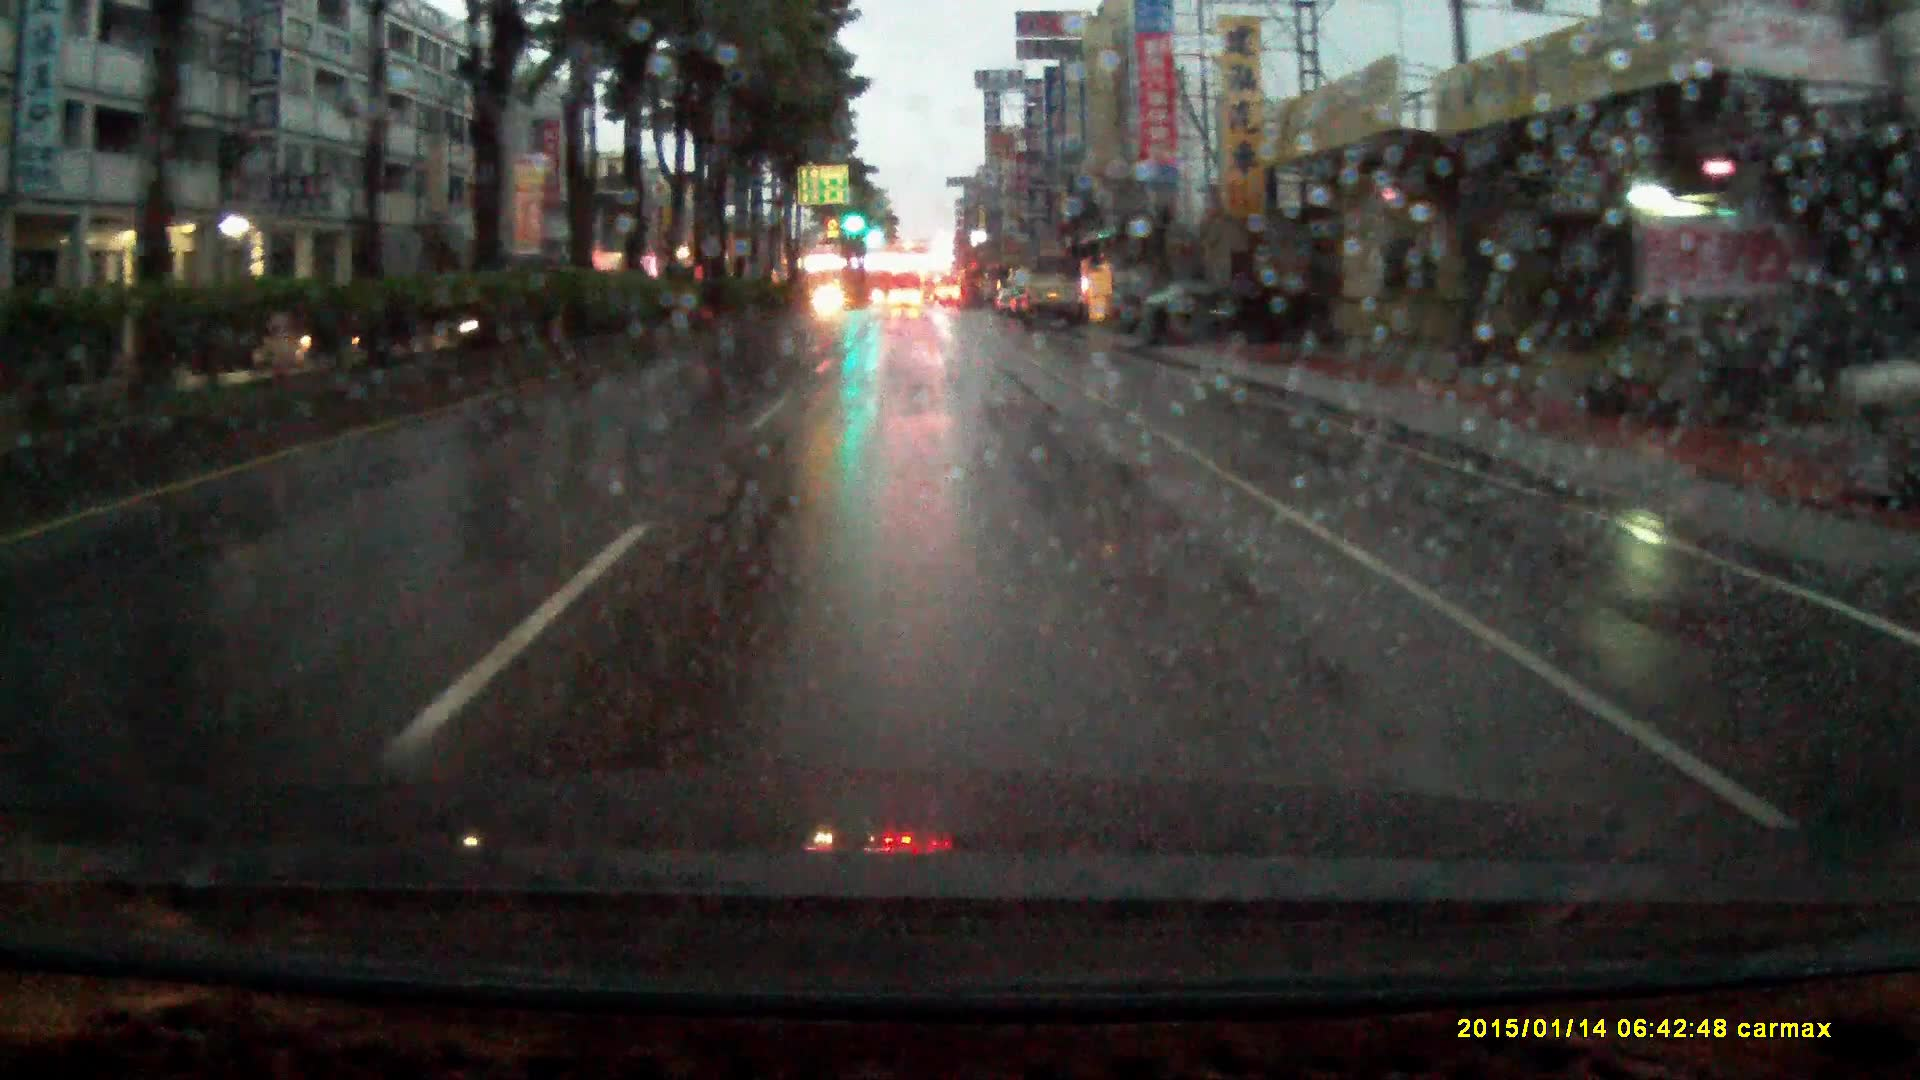vehicle: (1830, 335, 1920, 506), (1116, 286, 1331, 349), (1021, 277, 1084, 330), (886, 289, 926, 314)
